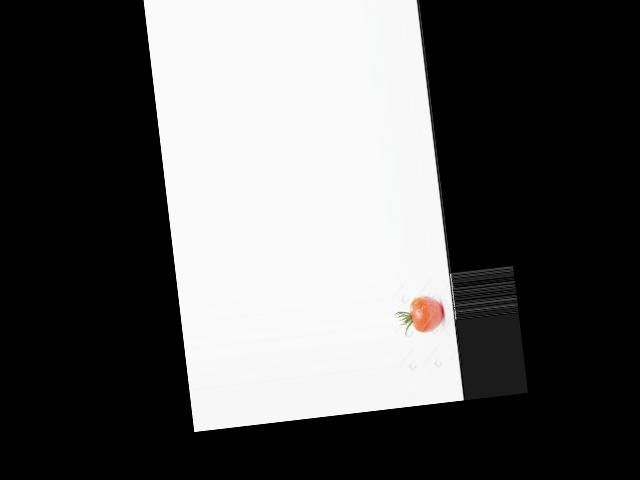tomato: (409, 294, 445, 334)
